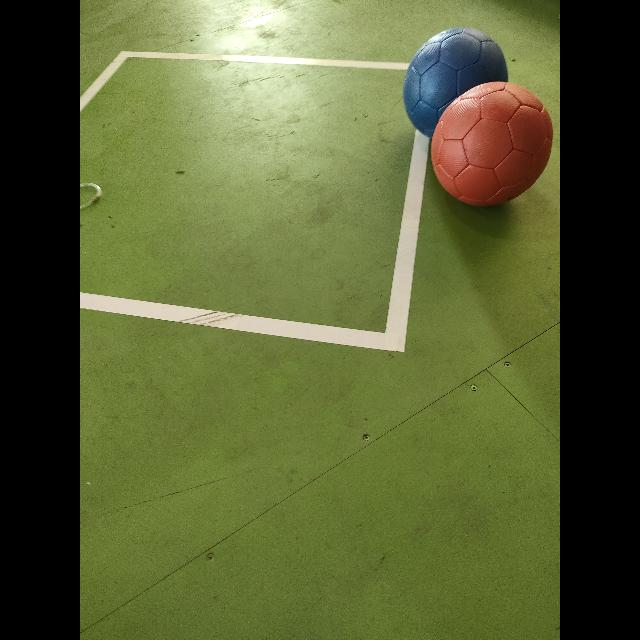B: (404, 26, 506, 138)
R: (432, 82, 552, 206)
